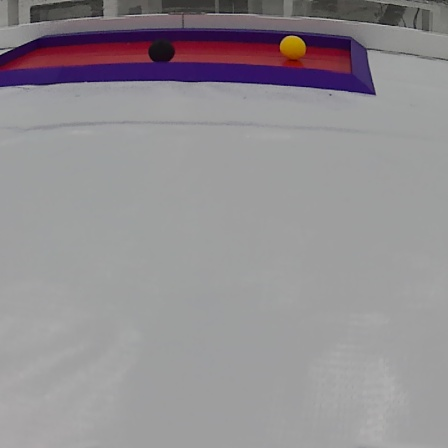black: (144, 35, 177, 67)
red_aim: (0, 30, 380, 99)
yellow: (273, 32, 309, 62)
